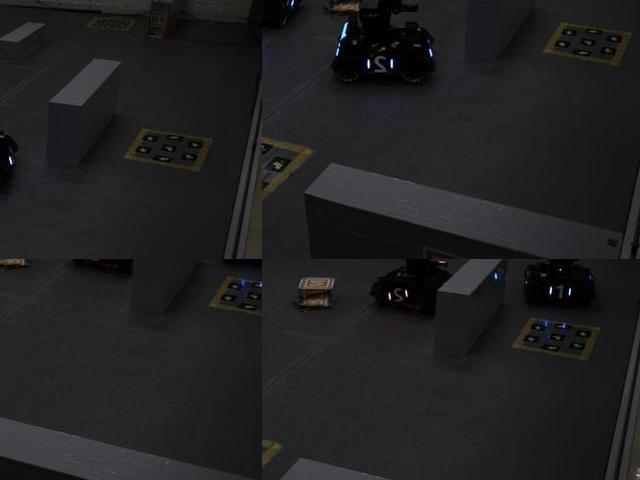armor: (364, 50, 399, 79), (385, 282, 413, 306), (545, 281, 574, 302), (283, 0, 301, 13), (82, 259, 111, 266)
